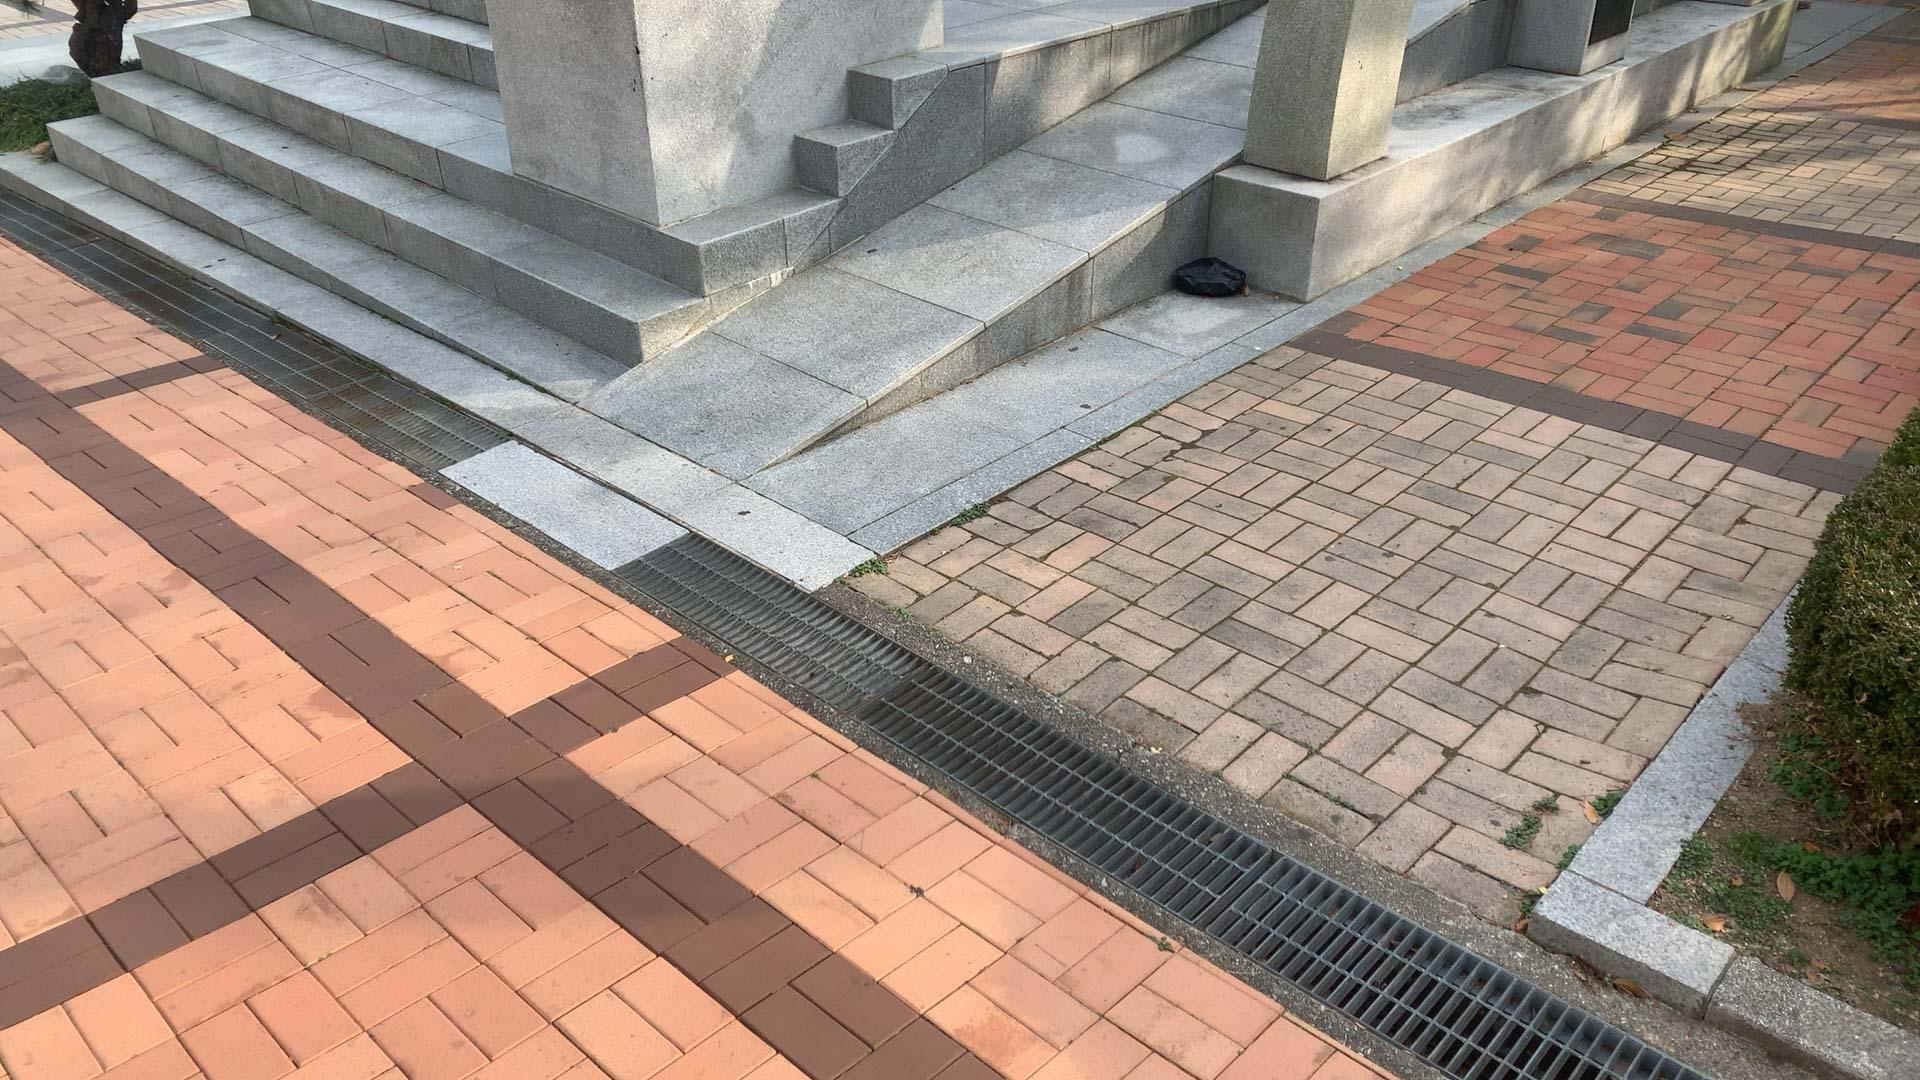black_bag: (1167, 252, 1251, 299)
